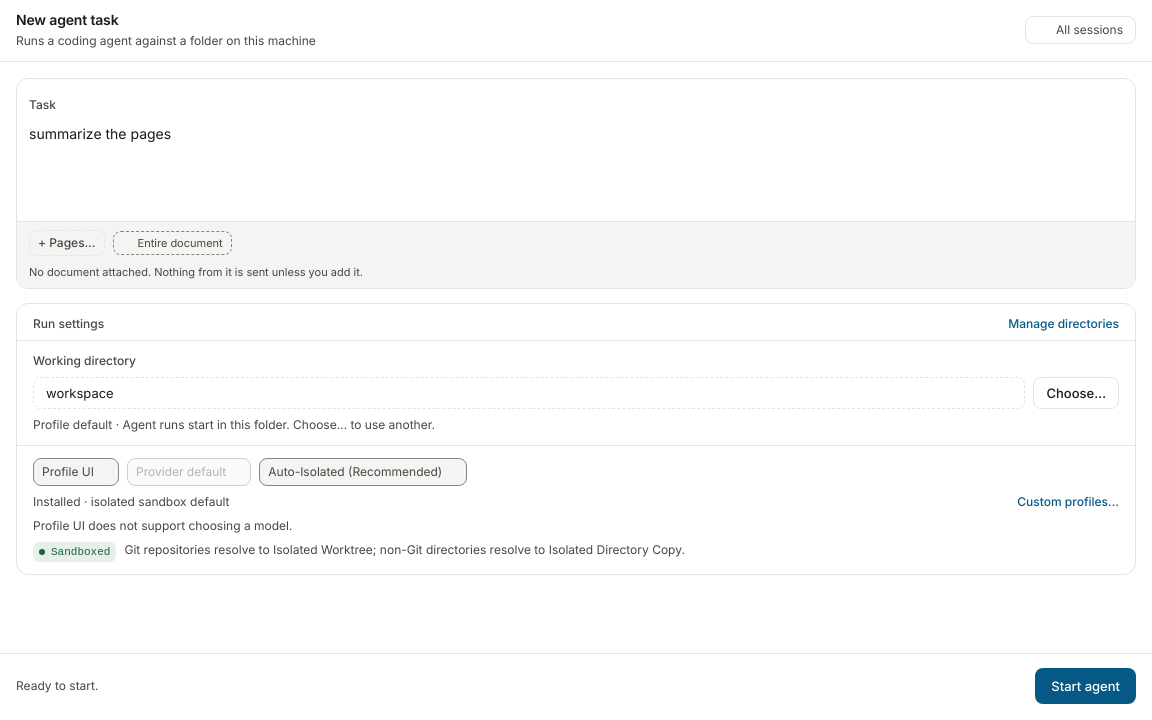
Test: Agent book UI: task draft after Start › keeps the task when the run could not start
The width and height of the screenshot is (1152, 720).
Click the button with test id "agent-start-button" at (1086, 686), box x1=1035 y1=668 x2=1136 y2=704
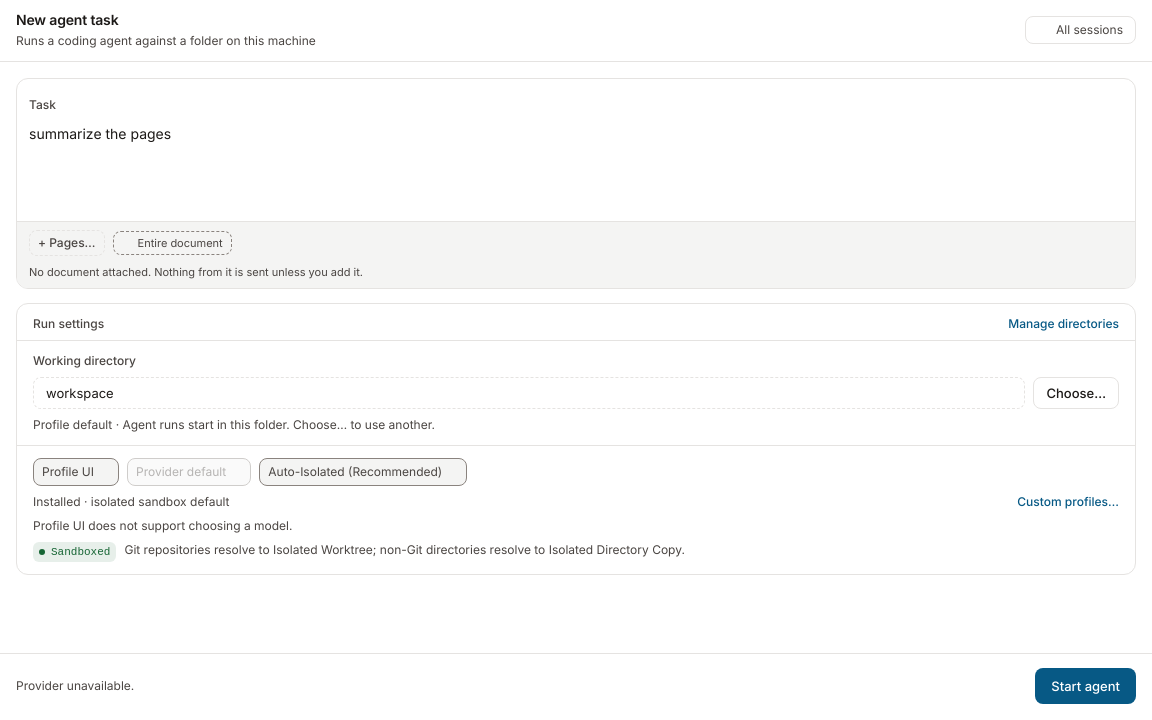
expect the message "Provider unavailable." is shown: met, box x1=16 y1=678 x2=134 y2=693
